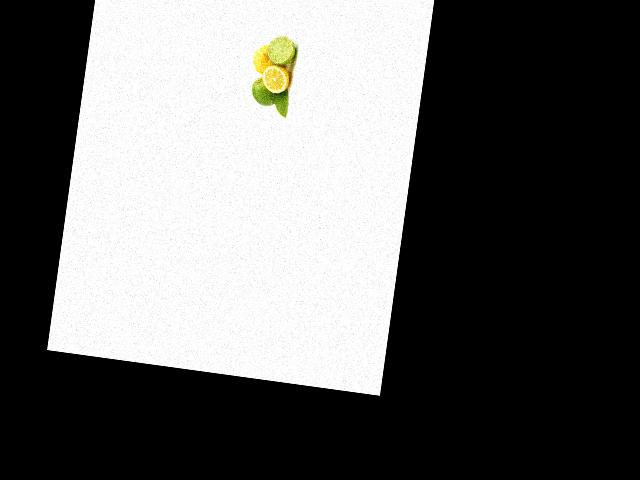lemon: (249, 42, 277, 75)
